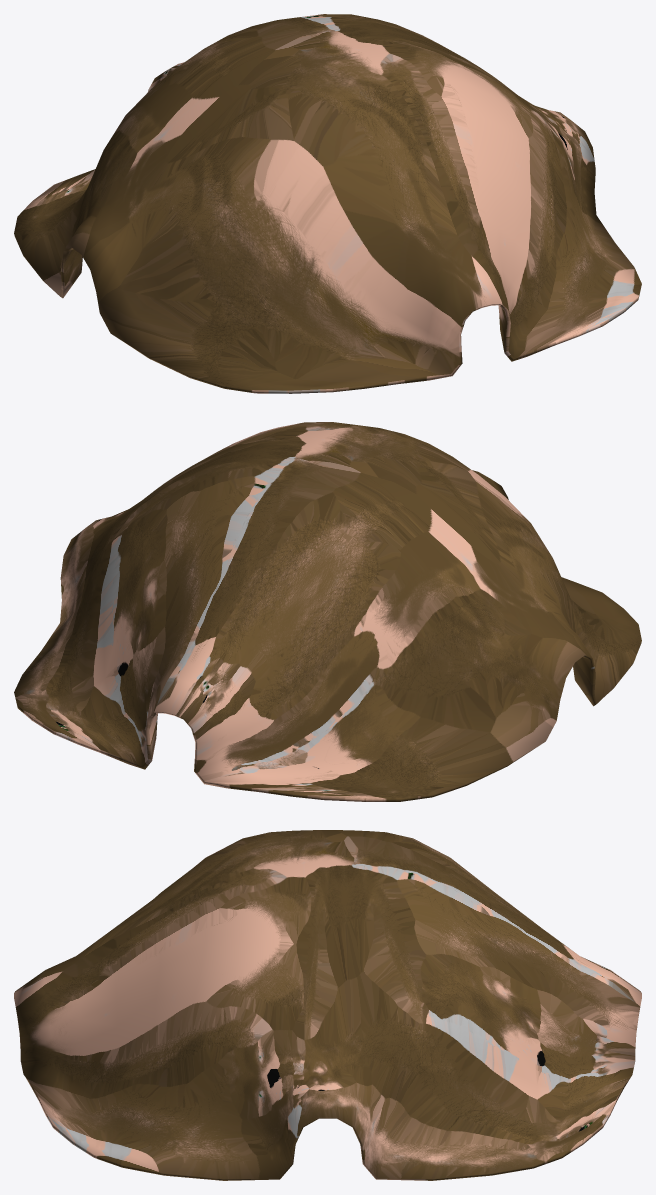
Rendered from BeaverNest.fbx.
3 renders of one model, top to bottom at view 1: azimuth 30°, elevation 25°; view 2: azimuth 150°, elevation 25°; view 3: azimuth 270°, elevation 25°, orthographic.
Parts seen in each view (by area): view 1: Plane; view 2: Plane; view 3: Plane.
Boxes of the visible parts, <box> form: Plane: <box>14,14,641,393</box>; Plane: <box>14,422,641,801</box>; Plane: <box>14,830,641,1180</box>.
Size of the model in its own units: 166 by 68.94 by 182.
